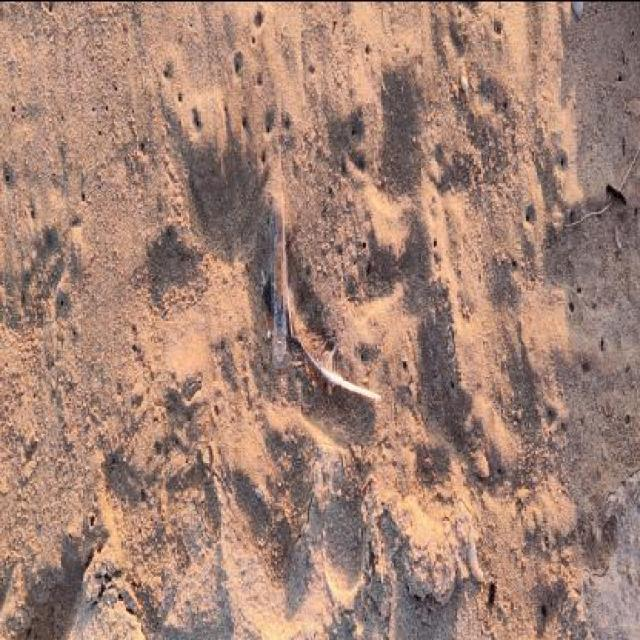plastic: (268, 191, 290, 366)
